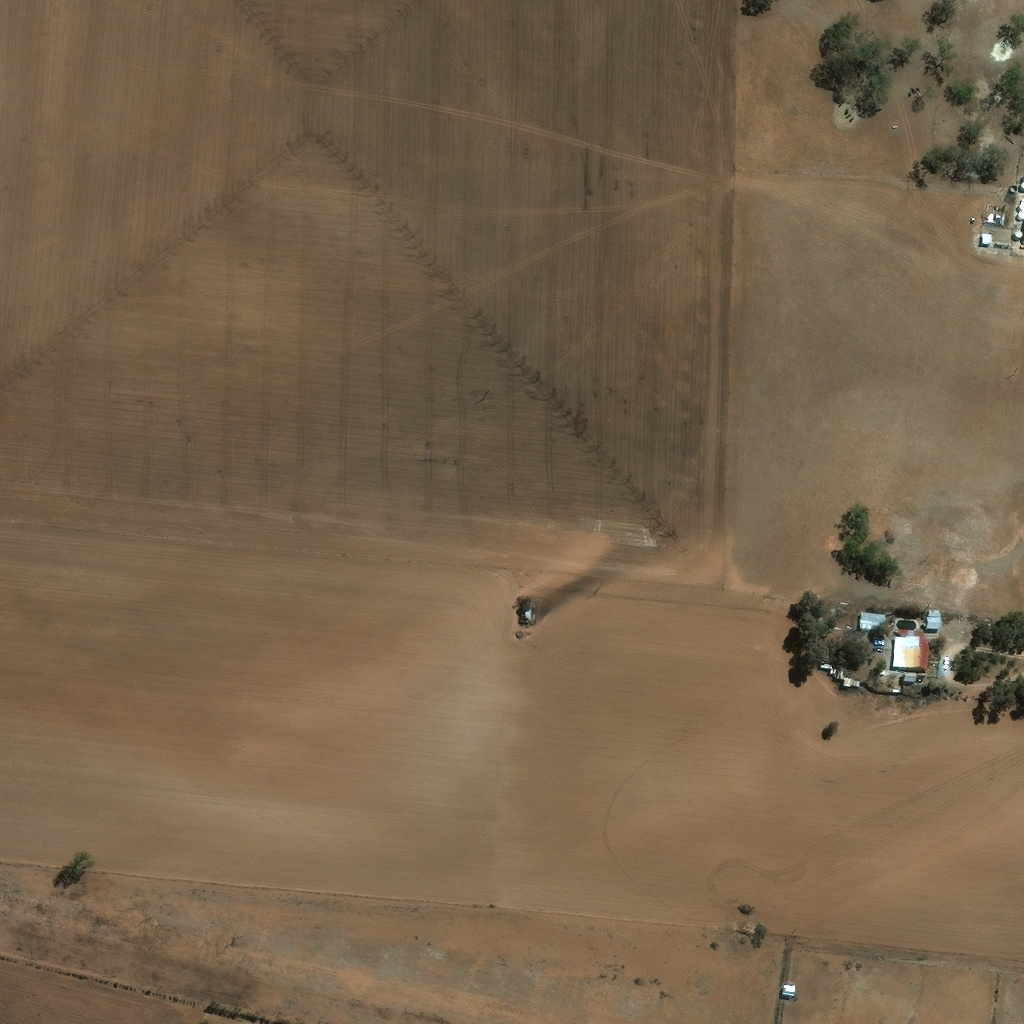0 no-damage: (899, 635, 931, 669), (859, 611, 887, 632), (821, 658, 844, 680), (926, 607, 941, 630), (782, 983, 796, 997), (905, 672, 917, 683), (981, 232, 993, 242), (843, 677, 850, 687)
3 destroyed: (983, 215, 996, 221), (525, 607, 532, 618)
4 un-classified: (954, 569, 968, 581), (971, 186, 981, 196), (986, 200, 995, 209), (944, 656, 949, 662)
